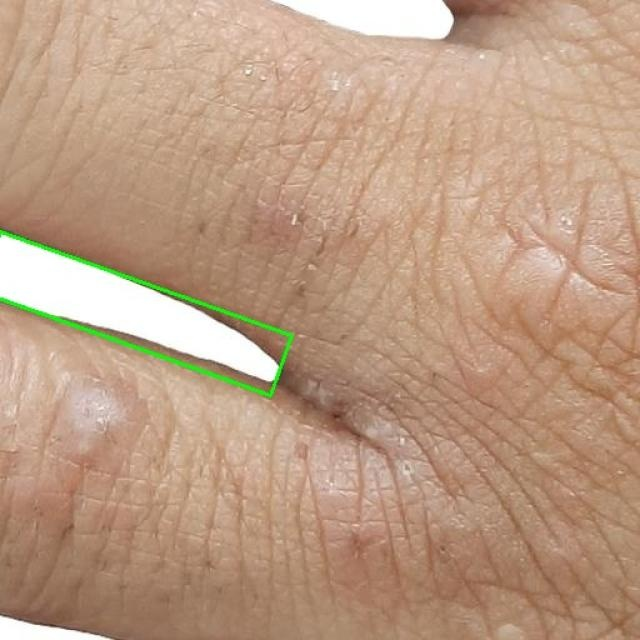Scabies: (0, 225, 294, 396)
